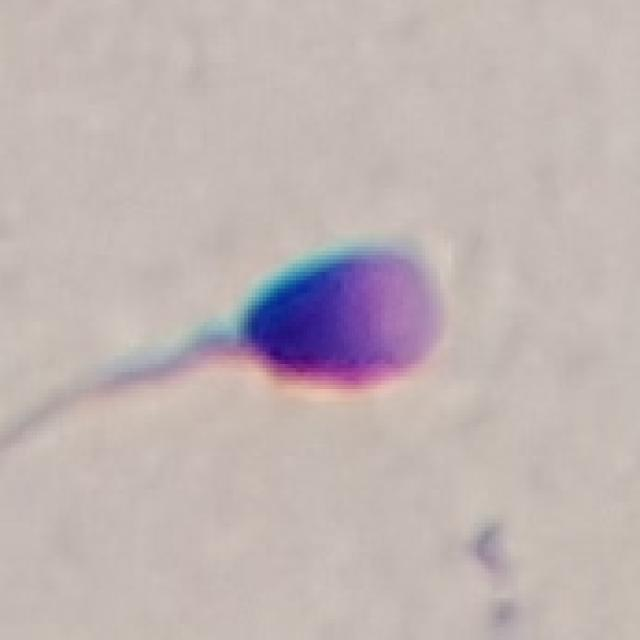normal sperm: (136, 242, 450, 388)
